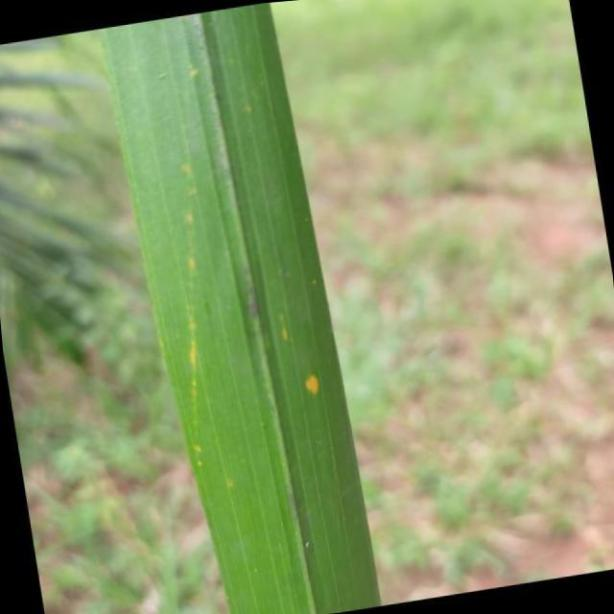Kalium: (96, 0, 385, 614)
